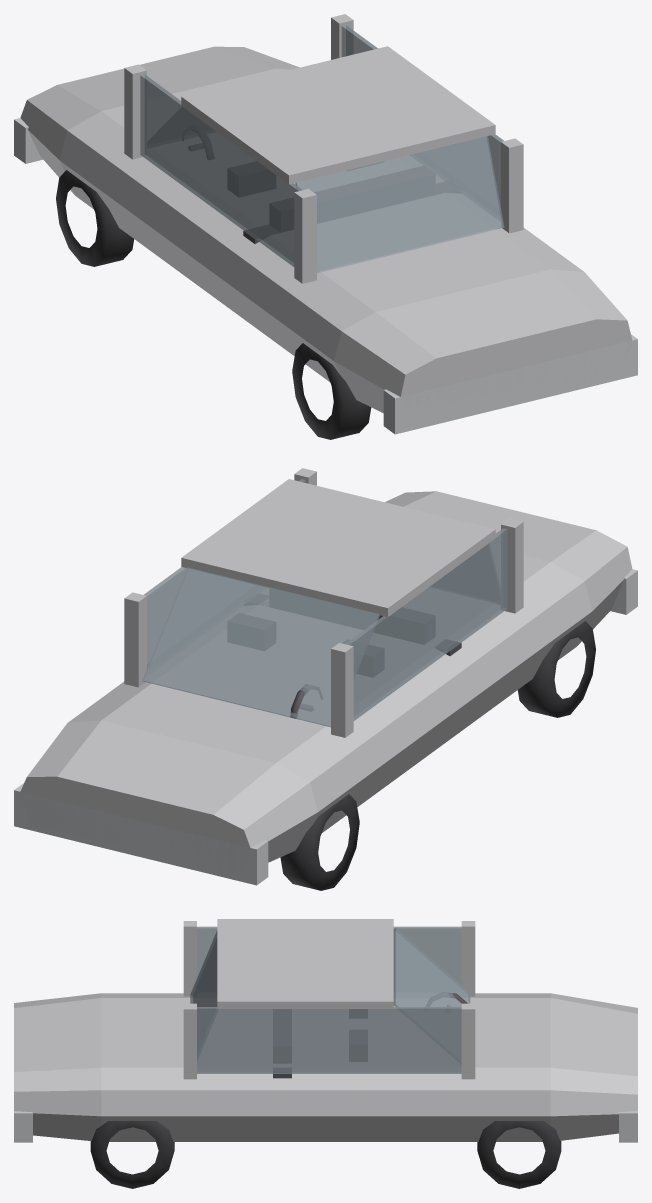
The model's file is saloon.glb.
The picture shows the model from 3 angles, top to bottom: view 1: azimuth 30°, elevation 25°; view 2: azimuth 150°, elevation 25°; view 3: azimuth 270°, elevation 25°; orthographic projection. The views are drawn at different scales.
Parts seen in each view (by area): view 1: body, glass, body_trim, wheels, seats; view 2: body, glass, body_trim, wheels, seats; view 3: body, glass, wheels, seats, body_trim.
Boxes of the visible parts, <box> form: body: <box>20,14,632,421</box>; glass: <box>140,25,504,273</box>; body_trim: <box>14,118,637,434</box>; wheels: <box>56,170,371,439</box>; seats: <box>228,162,459,243</box>; body: <box>19,468,632,872</box>; glass: <box>142,479,507,727</box>; body_trim: <box>14,569,637,885</box>; wheels: <box>280,621,595,890</box>; seats: <box>228,589,461,676</box>; body: <box>14,919,637,1141</box>; glass: <box>190,926,470,1073</box>; wheels: <box>90,1121,561,1188</box>; seats: <box>273,1009,367,1078</box>; body_trim: <box>14,1110,637,1142</box>.
Size of the model in its own units: 1.8 by 1.45 by 4.6.
